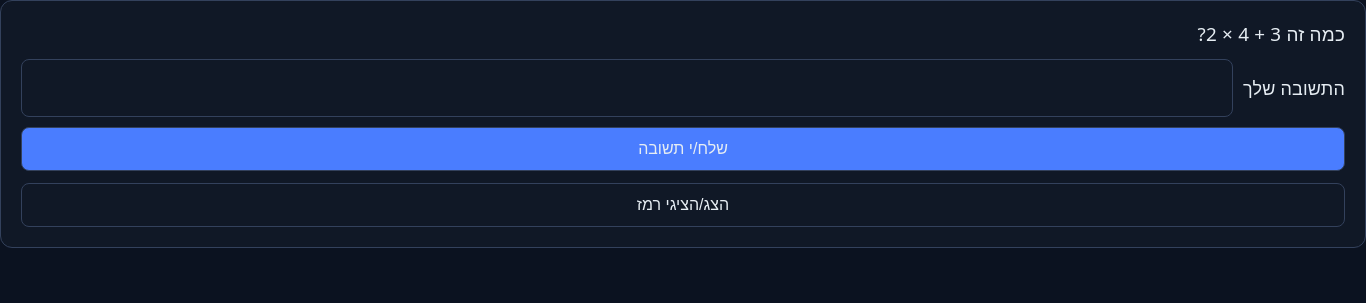
it: MathExercisePanel › shows incorrect feedback and calls onResult(false) for the wrong answer
This screenshot has width=1366, height=303.
Type "7" into the number field with test id "math-answer-input" at (627, 88), box [21,59,1233,117]
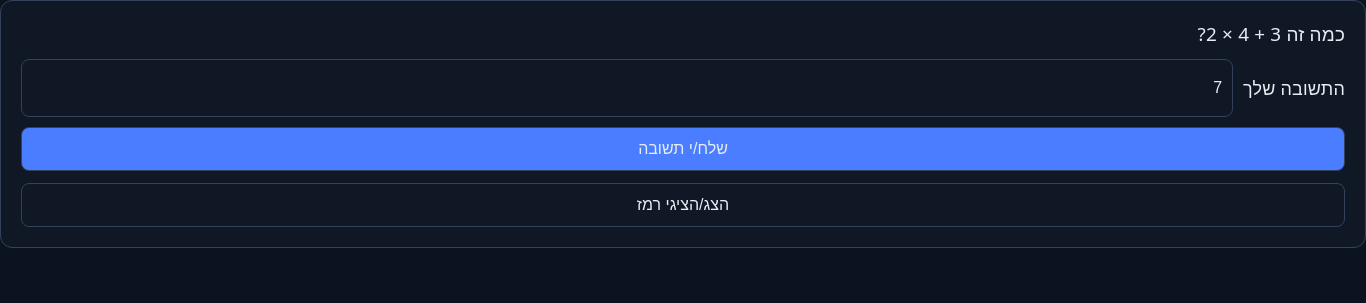
Click the button with test id "math-submit-button" at (683, 149), box [21,127,1345,171]
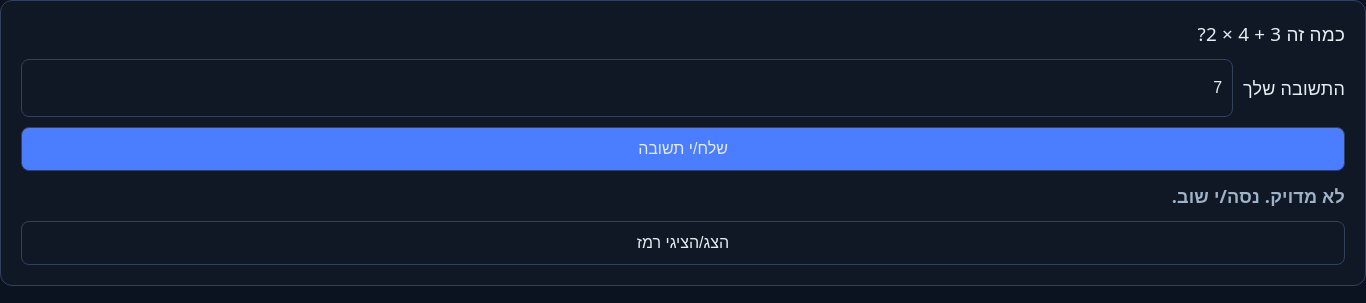
expect the text with test id "math-exercise-feedback" reads "לא מדויק. נסה/י שוב.": met, box [1172,184,1345,208]
